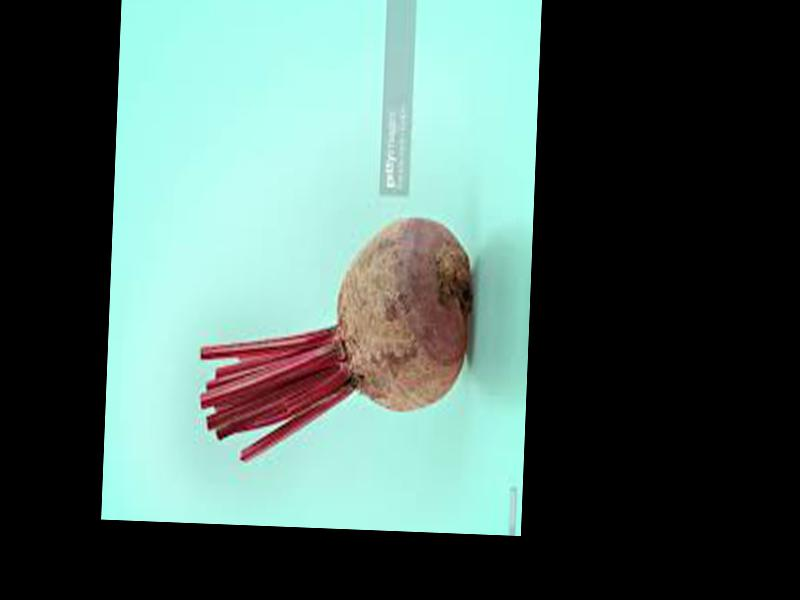Beet: (195, 209, 475, 468)
